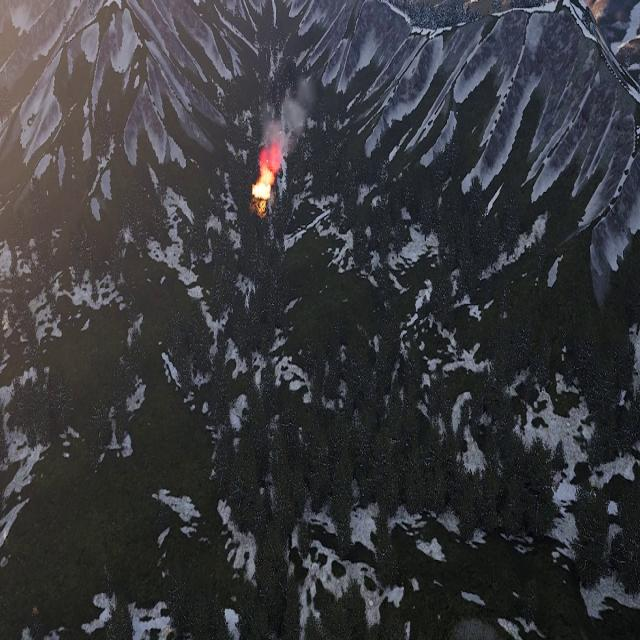fire: (251, 164, 275, 204)
smoke: (260, 71, 318, 164)
